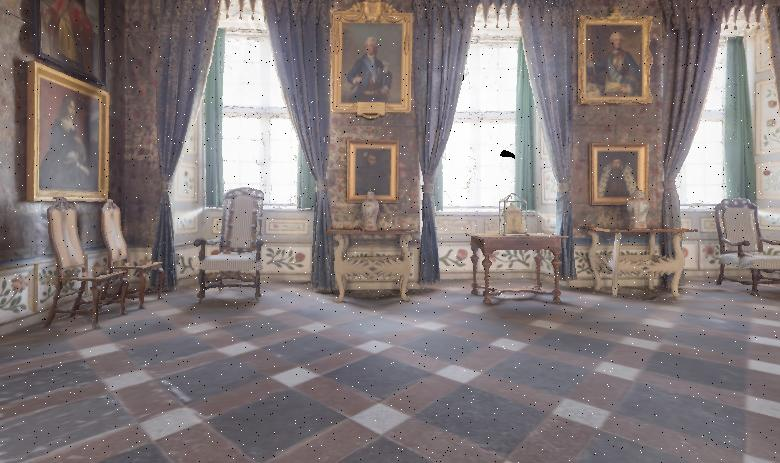chair: (35, 195, 129, 333), (187, 184, 282, 311), (93, 188, 170, 321), (707, 187, 780, 315)
table: (567, 205, 705, 301), (322, 210, 430, 312), (464, 217, 579, 311)
